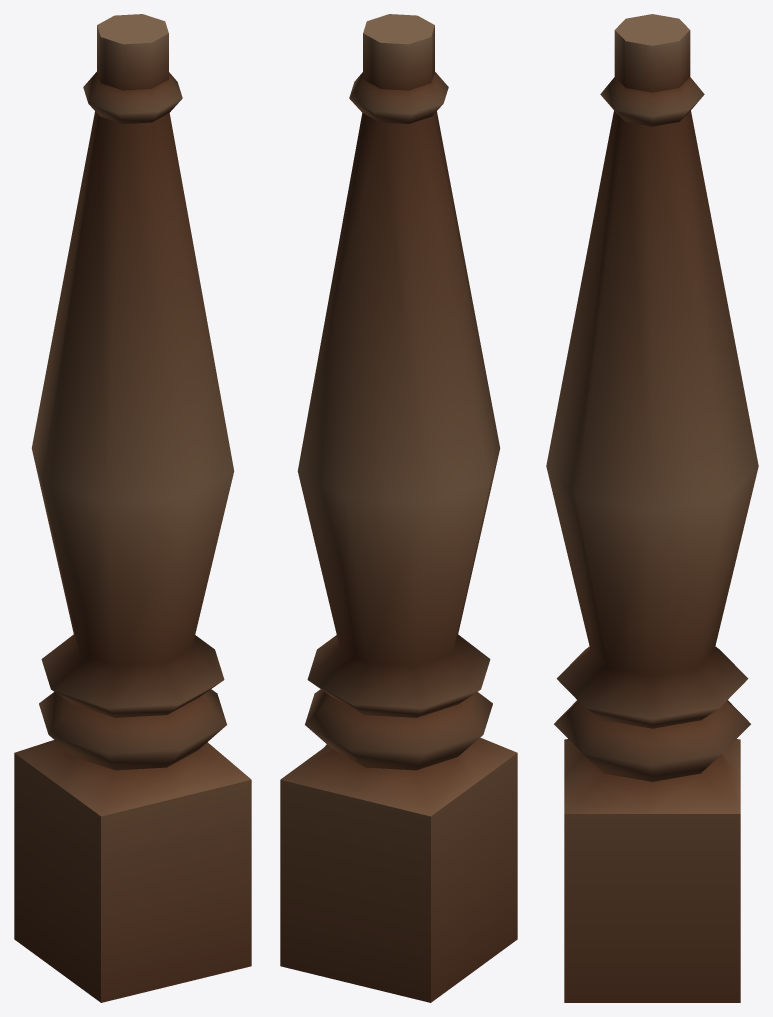
Rendered from Table_Leg.fbx.
3 views of the same model, side by side, from view 1: azimuth 30°, elevation 25°; view 2: azimuth 150°, elevation 25°; view 3: azimuth 270°, elevation 25° (orthographic).
Parts seen in each view (by area): view 1: TableLeg; view 2: TableLeg; view 3: TableLeg.
Boxes of the visible parts, x1,y1,x2,y2 form: TableLeg: (14, 14, 251, 1002); TableLeg: (280, 14, 517, 1002); TableLeg: (546, 14, 758, 1002).
Bounding box in the file's own units: 20.58 × 100 × 20.58.
